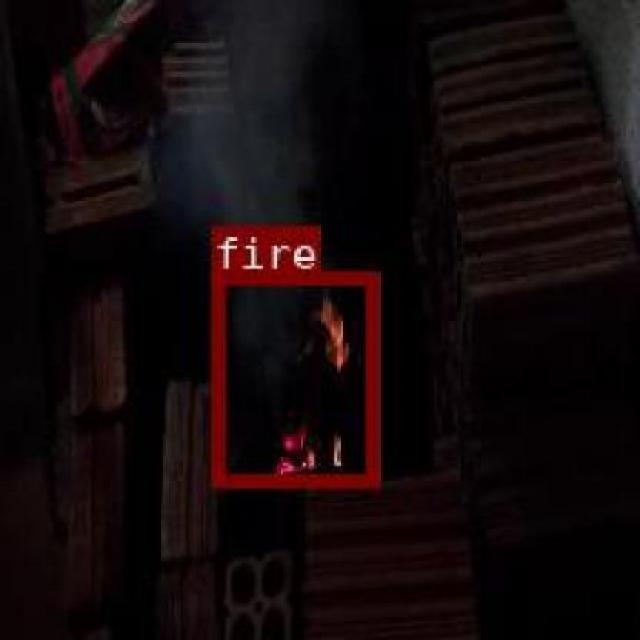fire: (211, 270, 375, 486)
